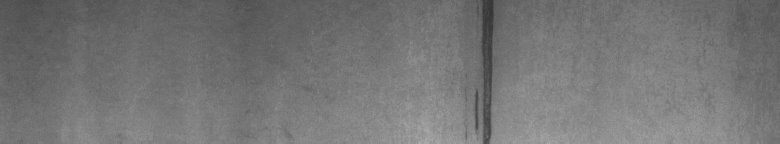hd: (464, 4, 500, 136)
